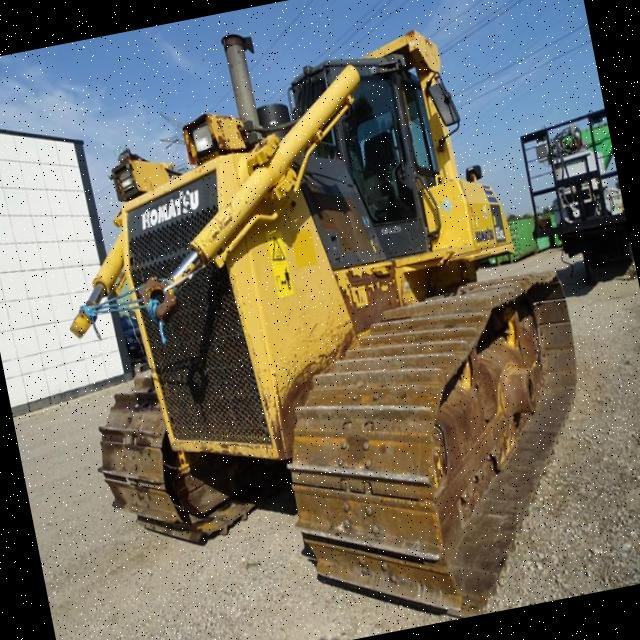Bulldozer: (39, 5, 640, 640)
